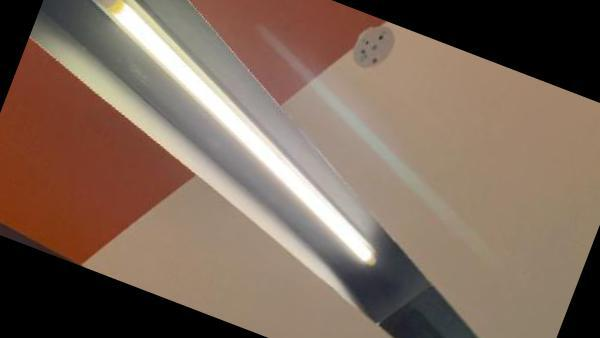light_on: (8, 0, 451, 280)
